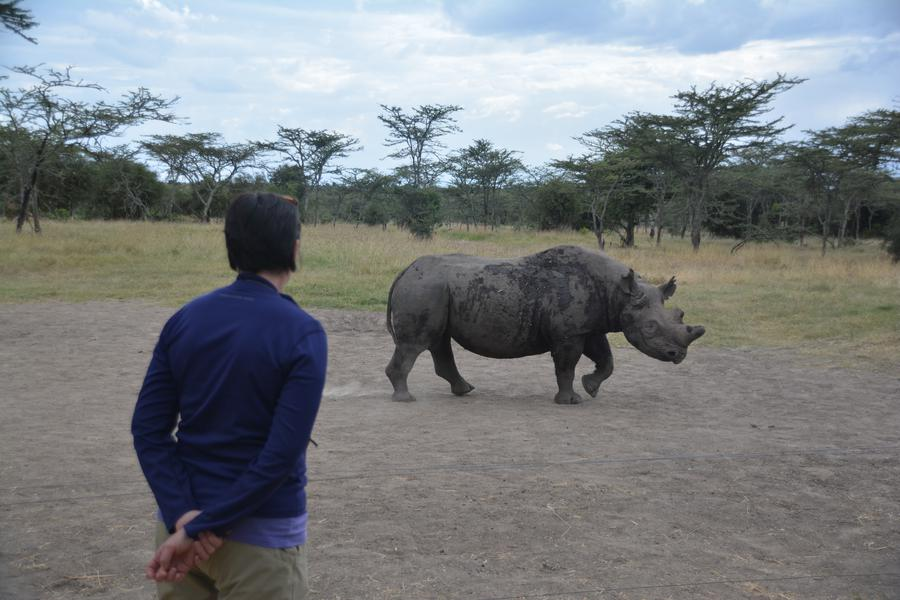rhino: (397, 243, 674, 406)
